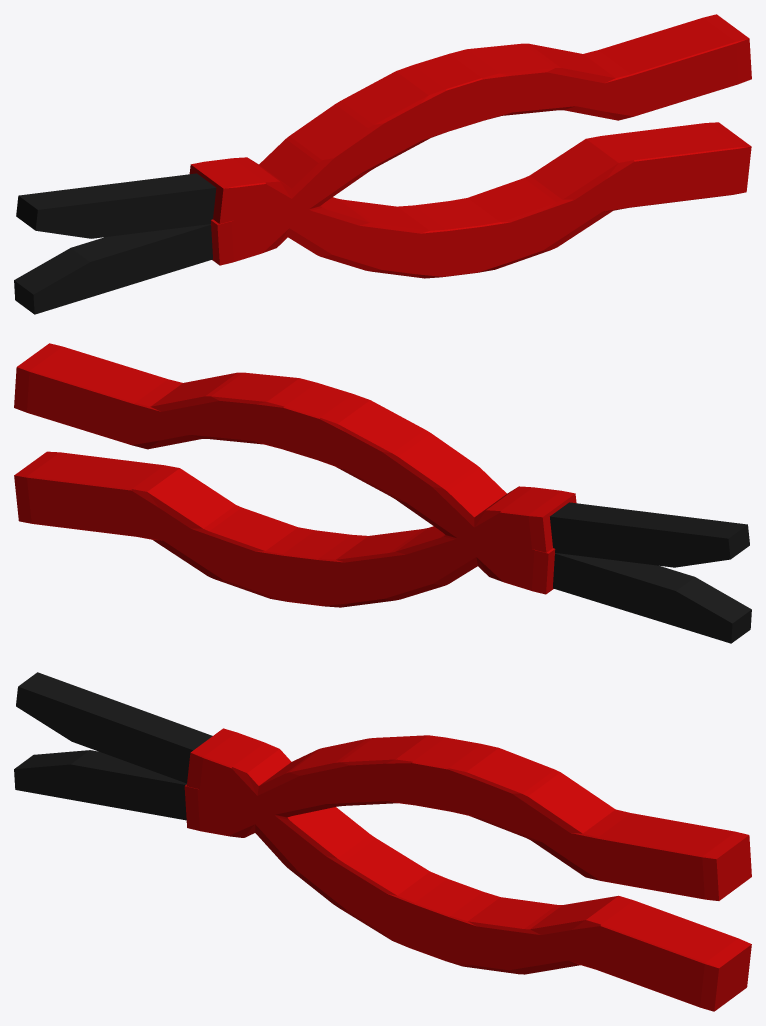
Rendered from CLAMPS_FOR_ELECTRONICS.obj.
The picture shows the model from 3 angles, top to bottom: view 1: azimuth 30°, elevation 25°; view 2: azimuth 150°, elevation 25°; view 3: azimuth 330°, elevation 25°; orthographic projection.
Parts seen in each view (by area): view 1: RIGHT_PLIER_HANDLE_Cube.009, LEFT_PLIER_HANDLE_Cube.008; view 2: LEFT_PLIER_HANDLE_Cube.008, RIGHT_PLIER_HANDLE_Cube.009; view 3: LEFT_PLIER_HANDLE_Cube.008, RIGHT_PLIER_HANDLE_Cube.009.
Part boxes in pixels (box(x1,y1,x2,y2)): RIGHT_PLIER_HANDLE_Cube.009: box(14, 14, 751, 314); LEFT_PLIER_HANDLE_Cube.008: box(16, 122, 751, 278); LEFT_PLIER_HANDLE_Cube.008: box(14, 451, 749, 607); RIGHT_PLIER_HANDLE_Cube.009: box(14, 343, 751, 643); LEFT_PLIER_HANDLE_Cube.008: box(16, 672, 751, 1011); RIGHT_PLIER_HANDLE_Cube.009: box(14, 735, 751, 900).
Bounding box in the file's own units: 0.6708 × 0.1764 × 0.0565.
